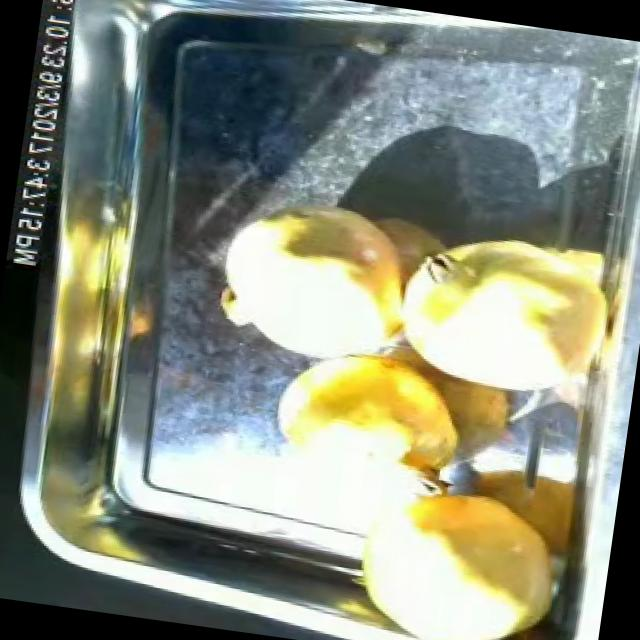fruit: (374, 207, 640, 446), (192, 176, 434, 383), (332, 450, 593, 640), (258, 330, 487, 504)
